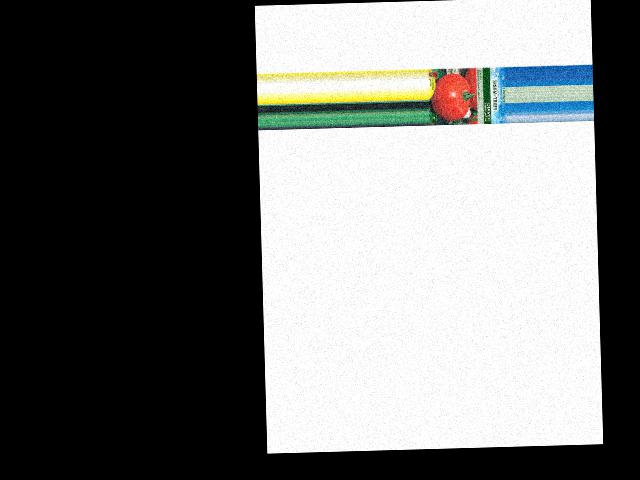tomato: (430, 73, 470, 121)
